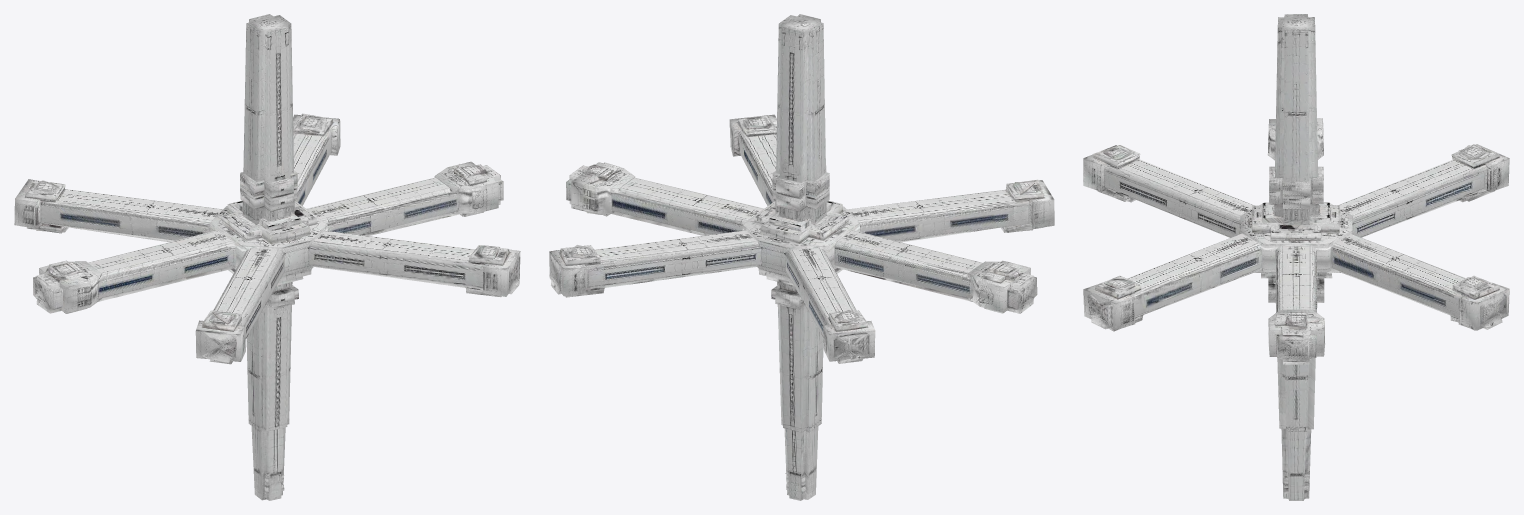
Rendered from station_cross.glb.
3 views of the same model, side by side, from view 1: azimuth 30°, elevation 25°; view 2: azimuth 150°, elevation 25°; view 3: azimuth 270°, elevation 25° (orthographic).
Visible parts, largest first — view 1: mesh_node; view 2: mesh_node; view 3: mesh_node.
Boxes of the visible parts, <box> form: mesh_node: <box>14,14,520,500</box>; mesh_node: <box>549,14,1054,500</box>; mesh_node: <box>1083,14,1509,500</box>.
Bounding box in the file's own units: 1 × 1 × 0.8164.
Materials: 1 (1 with a texture image).
